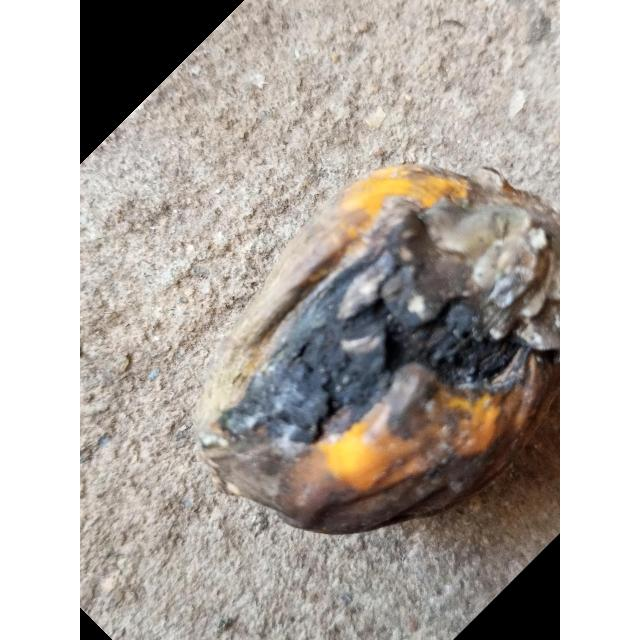damaged: (193, 164, 560, 539)
